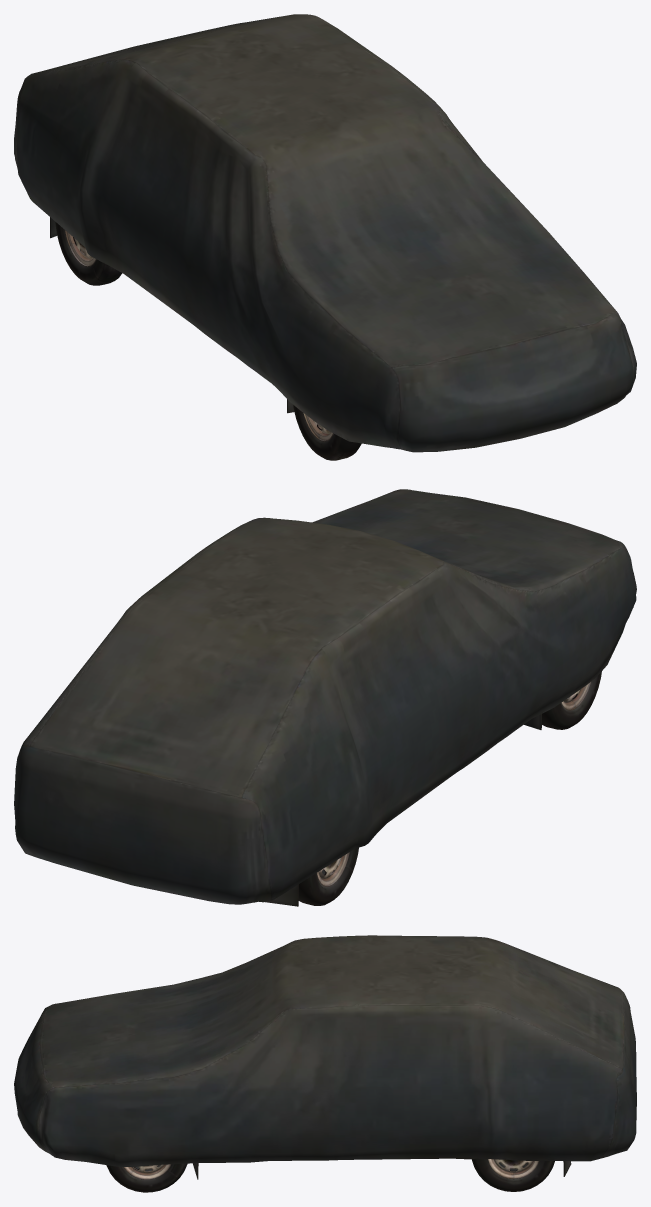
Rendered from covered_car.glb.
3 renders of one model, top to bottom at view 1: azimuth 30°, elevation 25°; view 2: azimuth 150°, elevation 25°; view 3: azimuth 270°, elevation 25°, orthographic. The views are drawn at different scales.
Visible parts, largest first — view 1: covered_car_wheel_01; view 2: covered_car_wheel_01; view 3: covered_car_wheel_01.
Part boxes in pixels (x1,y1,x2,y2): covered_car_wheel_01: (14, 14, 636, 460); covered_car_wheel_01: (14, 489, 636, 906); covered_car_wheel_01: (14, 935, 636, 1192).
Size of the model in its own units: 1.79 by 1.41 by 4.38.
Materials: 1 (1 with a texture image).
